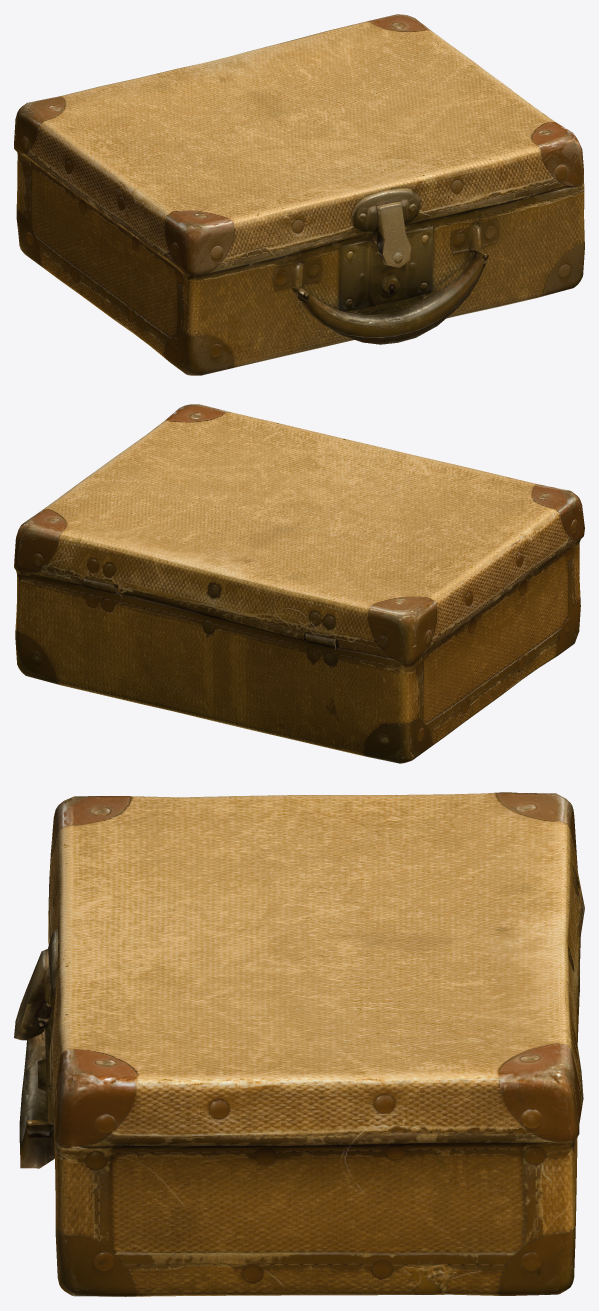
The model's file is Vintage_Suitcase.FBX.
The picture shows the model from 3 angles, top to bottom: view 1: azimuth 30°, elevation 25°; view 2: azimuth 150°, elevation 25°; view 3: azimuth 270°, elevation 25°; orthographic projection. The views are drawn at different scales.
Parts seen in each view (by area): view 1: Suitcase_LP; view 2: Suitcase_LP; view 3: Suitcase_LP.
Boxes of the visible parts, x1,y1,x2,y2 form: Suitcase_LP: [14, 14, 584, 375]; Suitcase_LP: [14, 404, 584, 763]; Suitcase_LP: [14, 792, 584, 1296].
Size of the model in its own units: 51.22 by 42.44 by 18.92.
